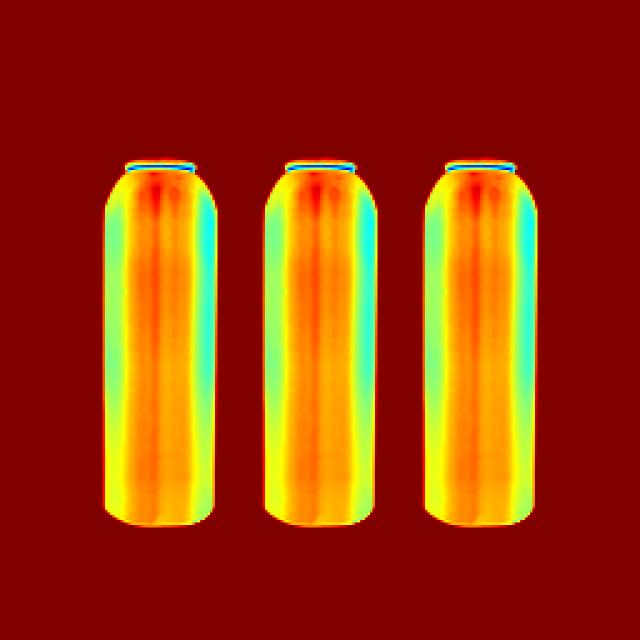Aerosol Cans: (406, 139, 556, 549), (88, 148, 236, 548), (247, 138, 388, 536)
